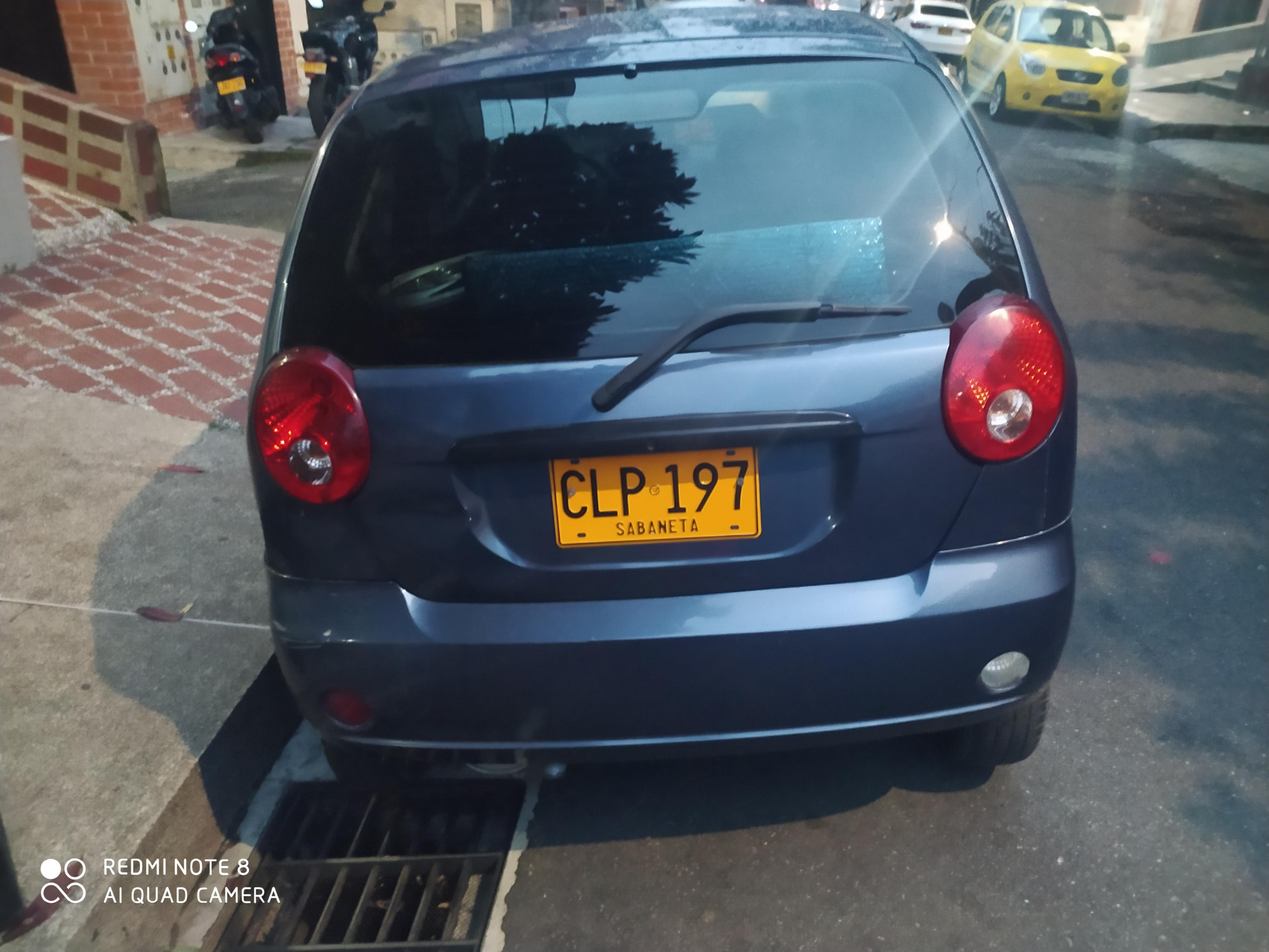placa: (537, 438, 772, 553)
